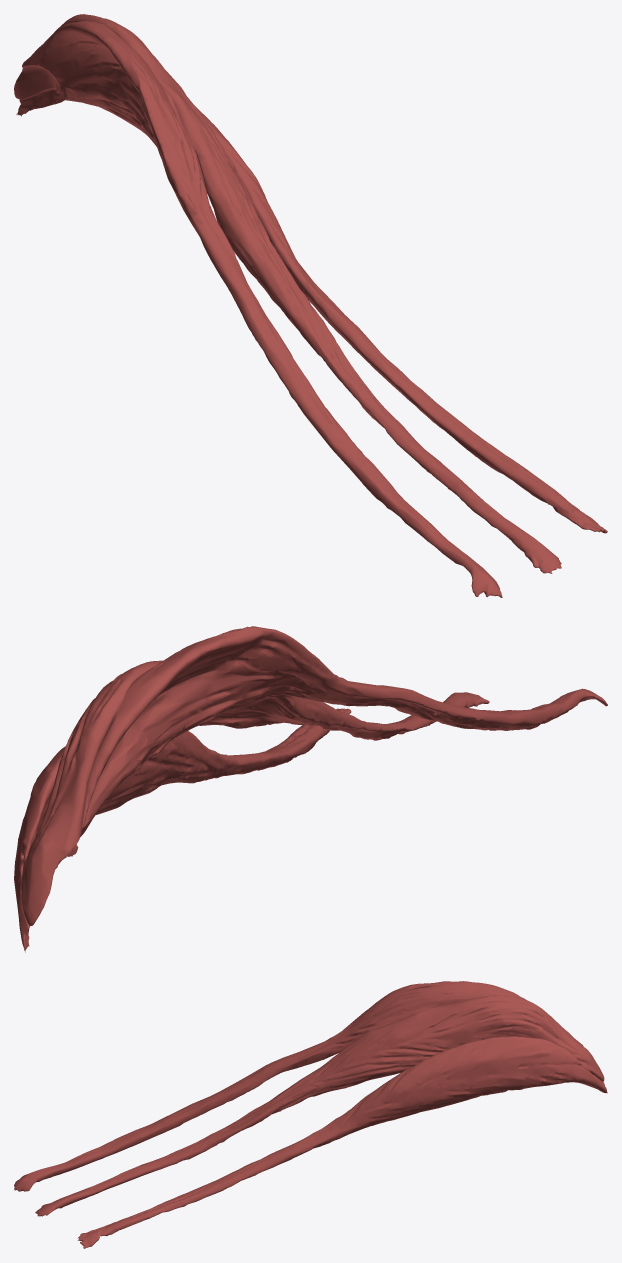
Rendered from FMA51143.glb.
3 views of the same model, one above another, from view 1: azimuth 30°, elevation 25°; view 2: azimuth 150°, elevation 25°; view 3: azimuth 270°, elevation 25° (orthographic). The views are drawn at different scales.
Parts seen in each view (by area): view 1: FMA51143; view 2: FMA51143; view 3: FMA51143.
Boxes of the visible parts, left/top/right/bottom form: FMA51143: left=14, top=14, right=607, bottom=597; FMA51143: left=14, top=626, right=607, bottom=952; FMA51143: left=14, top=981, right=607, bottom=1248.
Size of the model in its own units: 0.0414 by 0.0569 by 0.149.
